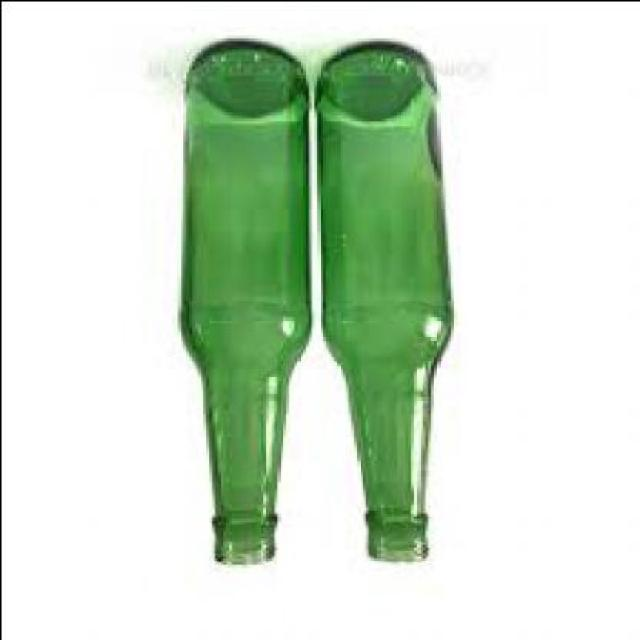GLASS: (316, 46, 456, 563), (182, 43, 313, 566)
